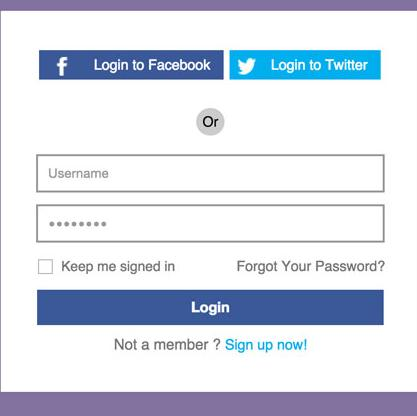button: (35, 288, 386, 328)
checkbox: (35, 256, 53, 276)
checkbox_with_label: (33, 254, 176, 278)
field: (34, 152, 385, 195), (34, 202, 385, 243)
